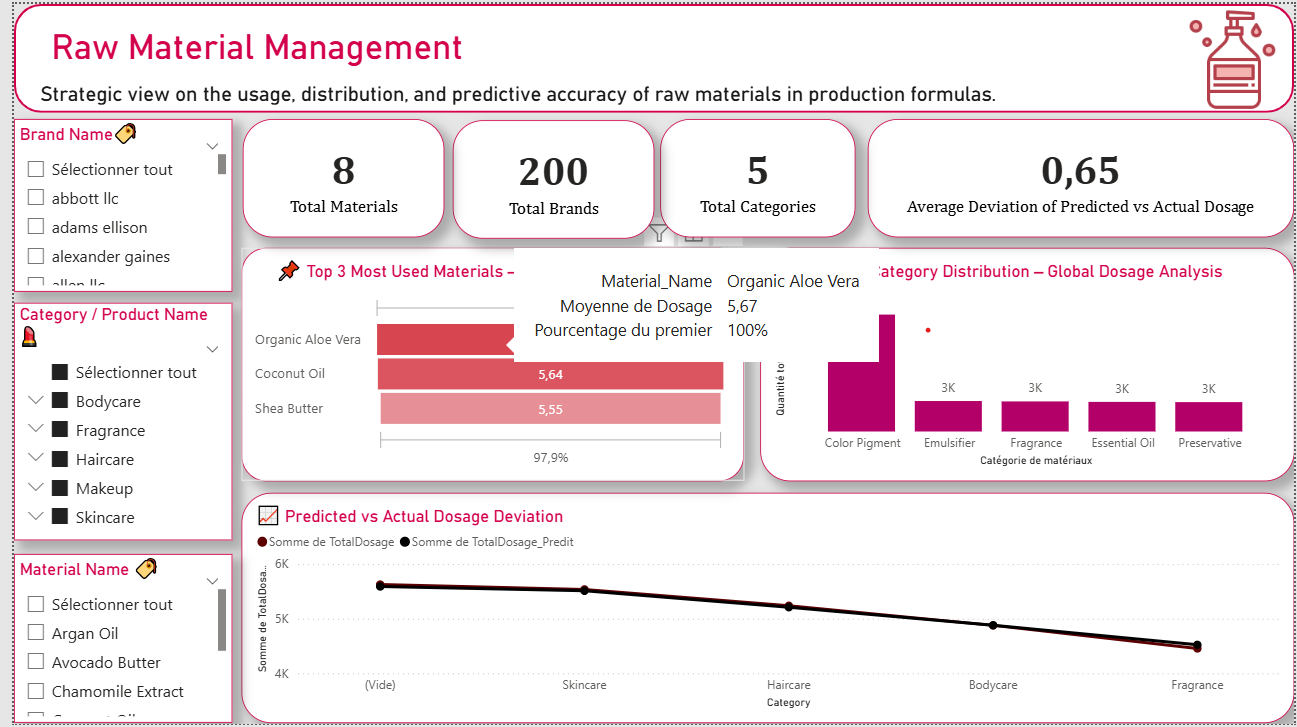

Layout of this report page (visuals, bound fields, positions):
{"tool":"powerbi","page":{"name":"Matiere_Premiere","canvas":[1280,720],"ordinal":3},"visuals":[{"type":"shape","box":[0,0,1280.3,109.1],"z":0},{"type":"textbox","title":"Raw Material Management","box":[32.5,22.7,1215.3,86.1],"z":1000},{"type":"slicer","title":"Brand Name🏷️ ","fields":{"Values":["Dim_Brand.brandname"]},"box":[0,115.3,218.2,172.9],"z":2000},{"type":"slicer","title":"Category / Product Name 💄","fields":{"Values":["Dim_Category.Category","Dim_Product.ProductName"]},"box":[0,299.1,218.2,237.4],"z":3000},{"type":"columnChart","title":"🧱 Material Category Distribution – Global Dosage Analysis","fields":{"Category":["Dim_MaterialCategory.Material_Category"],"Y":["Fact_Dosage.Dosage"]},"box":[745.8,243.7,534.6,234],"z":4000},{"type":"textbox","title":"Strategic view on the usage, distribution, and predictive accuracy of raw materials in production formulas.","box":[20.8,77.2,1238.7,62.4],"z":5000},{"type":"card","fields":{"Values":["Prevision_Dosage_XGBoost.Ecart_Moyen_Dosage"]},"box":[853.3,115,426.7,118.3],"z":6000},{"type":"lineChart","title":"📈 Predicted vs Actual Dosage Deviation","fields":{"Category":["Dim_Category.Category"],"Y":["Prevision_Dosage_XGBoost.TotalDosage","Prevision_Dosage_XGBoost.TotalDosage_Predit"]},"box":[227.5,489.1,1052.9,230.7],"z":7000},{"type":"funnel","title":"📌 Top 3 Most Used Materials – Average Dosage Analysis","fields":{"Category":["Dim_Material.Material_Name"],"Y":["Fact_Dosage.Dosage"]},"box":[227.5,243.7,502.1,234],"z":8000},{"type":"card","fields":{"Values":["Dim_Category.Category"]},"box":[646.7,115,195,118.3],"z":9000},{"type":"card","fields":{"Values":["Dim_Brand.brandname"]},"box":[438.3,116.7,201.7,118.3],"z":10000},{"type":"card","fields":{"Values":["Dim_Material.Material_Name"]},"box":[228.3,115,201.7,118.3],"z":11000},{"type":"slicer","title":"Material Name 🏷️ ","fields":{"Values":["Dim_Material.Material_Name"]},"box":[0,550.3,218.2,168.8],"z":12000},{"type":"image","box":[1161.7,0,118.3,111.7],"z":13000}]}

Visuals, with their boxes in screenshot pixels (x1, y1, x2, y2), scaled from the page's 1280x720 canvas onto the 1297x727 screenshot:
shape: (x1=0, y1=0, x2=1296, y2=110)
"Raw Material Management" textbox: (x1=33, y1=23, x2=1264, y2=110)
"Brand Name🏷️ " slicer: (x1=0, y1=116, x2=221, y2=291)
"Category / Product Name 💄" slicer: (x1=0, y1=302, x2=221, y2=542)
"🧱 Material Category Distribution – Global Dosage Analysis" columnChart: (x1=756, y1=246, x2=1296, y2=482)
"Strategic view on the usage, distribution, and predictive accuracy of raw materials in production formulas." textbox: (x1=21, y1=78, x2=1276, y2=141)
card - Prevision_Dosage_XGBoost.Ecart_Moyen_Dosage: (x1=865, y1=116, x2=1296, y2=236)
"📈 Predicted vs Actual Dosage Deviation" lineChart: (x1=231, y1=494, x2=1296, y2=726)
"📌 Top 3 Most Used Materials – Average Dosage Analysis" funnel: (x1=231, y1=246, x2=739, y2=482)
card - Dim_Category.Category: (x1=655, y1=116, x2=853, y2=236)
card - Dim_Brand.brandname: (x1=444, y1=118, x2=648, y2=237)
card - Dim_Material.Material_Name: (x1=231, y1=116, x2=436, y2=236)
"Material Name 🏷️ " slicer: (x1=0, y1=556, x2=221, y2=726)
image: (x1=1177, y1=0, x2=1296, y2=113)
